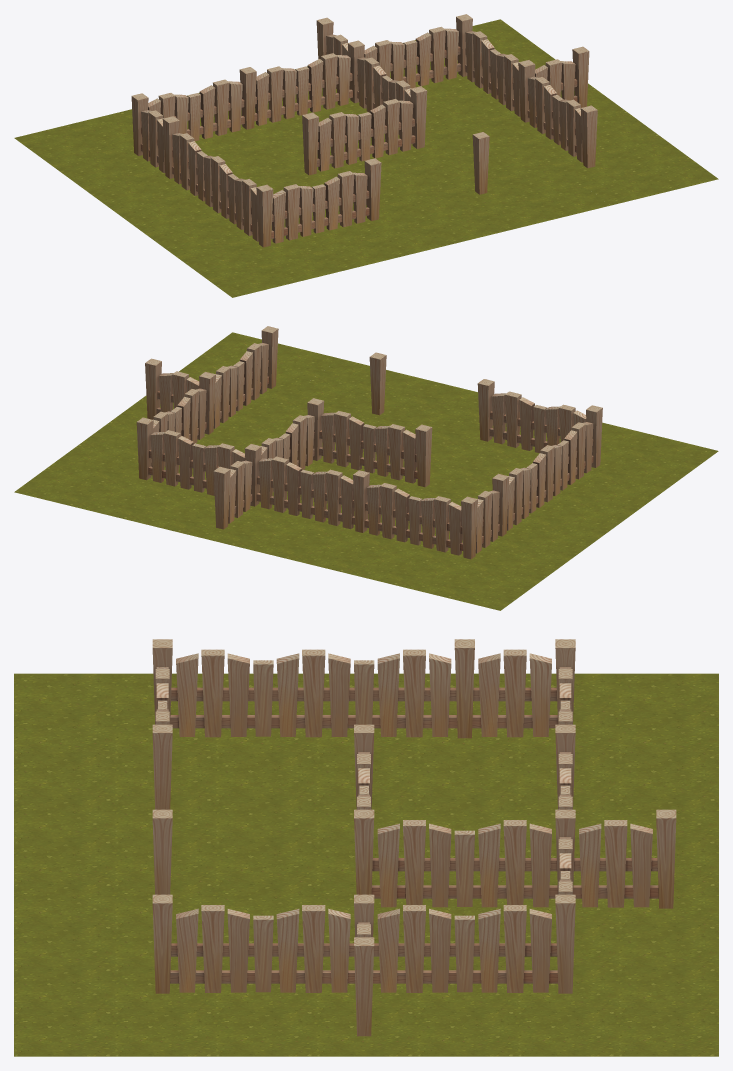
The model's file is 4scf.obj.
The picture shows the model from 3 angles, top to bottom: view 1: azimuth 30°, elevation 25°; view 2: azimuth 150°, elevation 25°; view 3: azimuth 270°, elevation 25°; orthographic projection. The views are drawn at different scales.
Visible parts, largest first — view 1: cell024, Box050, Box053, Box048, Box049, fence2_corner4, Box044, Box037, fence2_middle, fence2_corner3, Box038, Box052 (+13 smaller); view 2: cell024, Box050, Box049, fence2_middle, Box053, fence2_corner4, Box047, Box048, Box037, fence2_corner3, Box052, Box038 (+13 smaller); view 3: cell024, fence2_middle2, Box039, Box051, Box045, Box040, Box046, fence2_corner4, fence2_corner3, Box038, Box042, fence2_end001 (+8 smaller).
Boxes of the visible parts, x1,y1,x2,y2 form: cell024: (14, 19, 718, 297); Box050: (219, 67, 277, 134); Box053: (336, 100, 393, 167); Box048: (290, 172, 348, 239); Box049: (273, 54, 331, 121); fence2_corner4: (327, 37, 385, 112); Box044: (245, 181, 293, 247); Box037: (381, 28, 439, 88); fence2_middle: (165, 81, 223, 141); fence2_corner3: (507, 56, 555, 131); Box038: (435, 14, 483, 85); Box052: (390, 83, 427, 154); cell024: (14, 332, 718, 610); Box050: (332, 470, 389, 538); Box049: (278, 458, 336, 524); fence2_middle: (386, 484, 444, 551); Box053: (340, 412, 398, 479); fence2_corner4: (224, 440, 281, 515); Box047: (440, 493, 488, 559); Box048: (511, 393, 568, 453); Box037: (170, 431, 227, 495); fence2_corner3: (178, 368, 226, 443); Box052: (296, 398, 344, 469); Box038: (136, 414, 173, 485); cell024: (14, 673, 718, 1056); fence2_middle2: (414, 639, 515, 738); Box039: (414, 905, 515, 992); Box051: (414, 820, 515, 907); Box045: (213, 649, 313, 737); Box040: (213, 905, 313, 992); Box046: (313, 649, 414, 737); fence2_corner4: (515, 801, 615, 907); fence2_corner3: (313, 894, 414, 992); Box038: (515, 886, 575, 993); Box042: (152, 894, 212, 993); fence2_end001: (616, 809, 676, 908).
Size of the model in its own units: 450 by 50.83 by 350.
